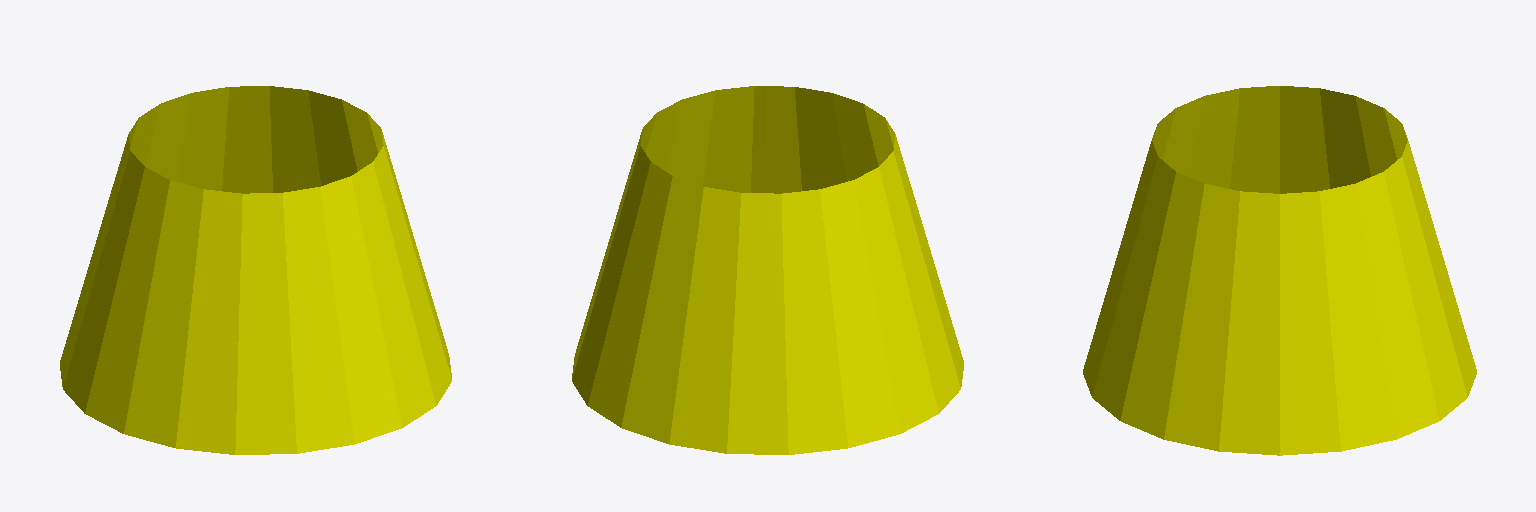
The model's file is skirt0.obj.
3 renders of one model, left to right at view 1: azimuth 30°, elevation 25°; view 2: azimuth 150°, elevation 25°; view 3: azimuth 270°, elevation 25°, orthographic.
Size of the model in its own units: 0.5544 by 0.36 by 0.5544.